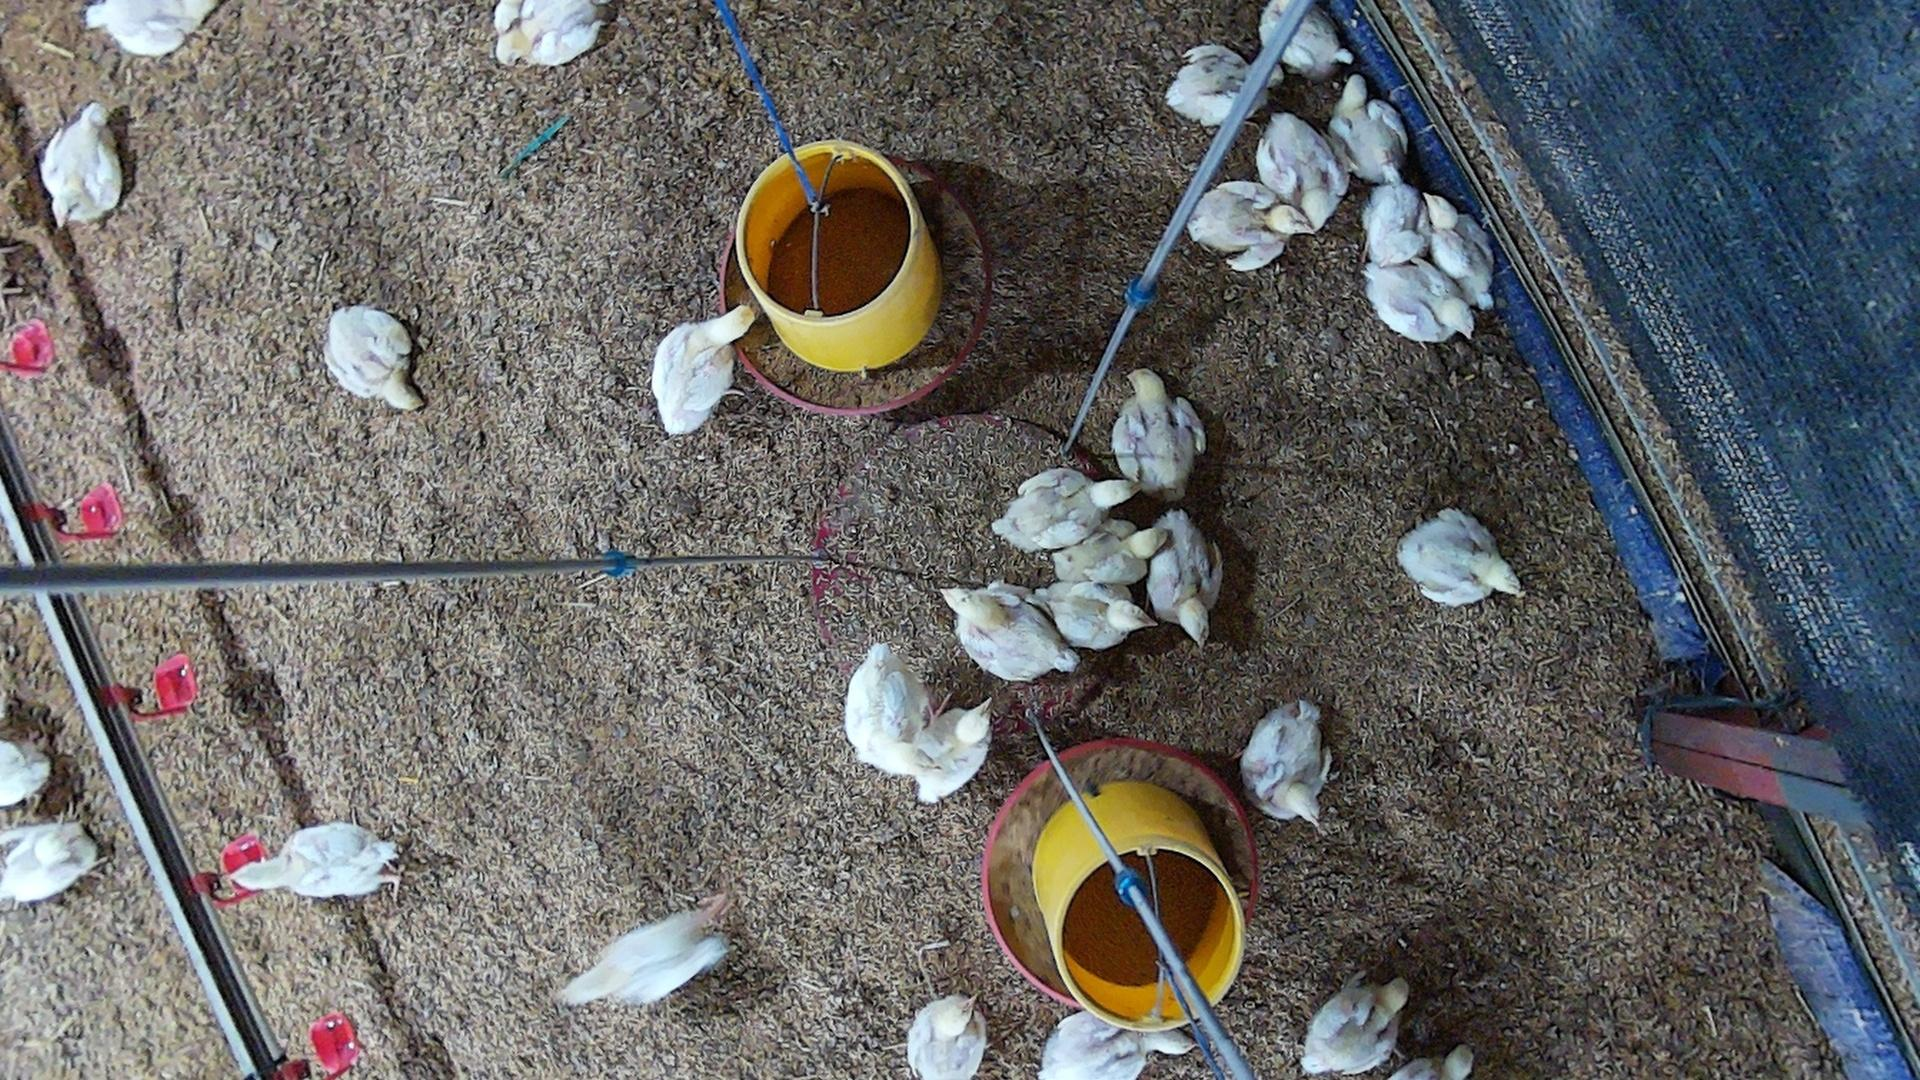ayam_broiler: (560, 910, 725, 1006), (943, 583, 1081, 683), (651, 306, 753, 436), (228, 823, 397, 894), (992, 464, 1131, 550), (1399, 508, 1522, 604), (845, 642, 931, 778), (1188, 181, 1315, 272), (1112, 368, 1201, 495), (1257, 112, 1349, 232), (1302, 975, 1408, 1077), (44, 103, 125, 231), (1241, 699, 1324, 823), (324, 303, 418, 409), (1149, 512, 1222, 645), (1365, 256, 1476, 342), (1168, 44, 1276, 127), (1329, 78, 1407, 189), (0, 818, 96, 905), (914, 699, 992, 806), (1425, 193, 1493, 311), (1039, 1007, 1151, 1079), (1056, 516, 1170, 585), (495, 0, 607, 67), (1036, 582, 1143, 649), (84, 0, 216, 54), (906, 996, 988, 1080), (1262, 0, 1353, 75), (1364, 179, 1424, 269)
